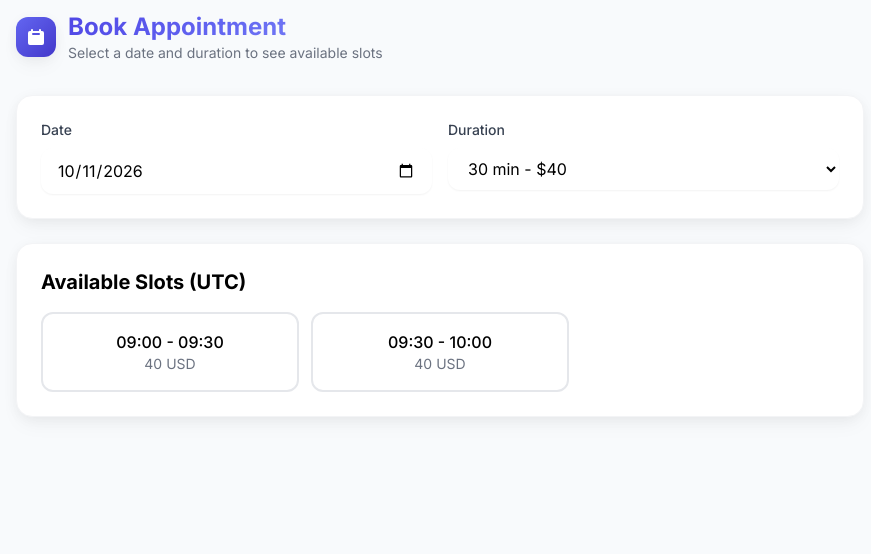
SlotExplorer › should show the picked slot with its date and UTC
This screenshot has width=871, height=554.
Click the button "09:00 - 09:30 40 USD": (170, 352) left=41, top=312, right=299, bottom=392
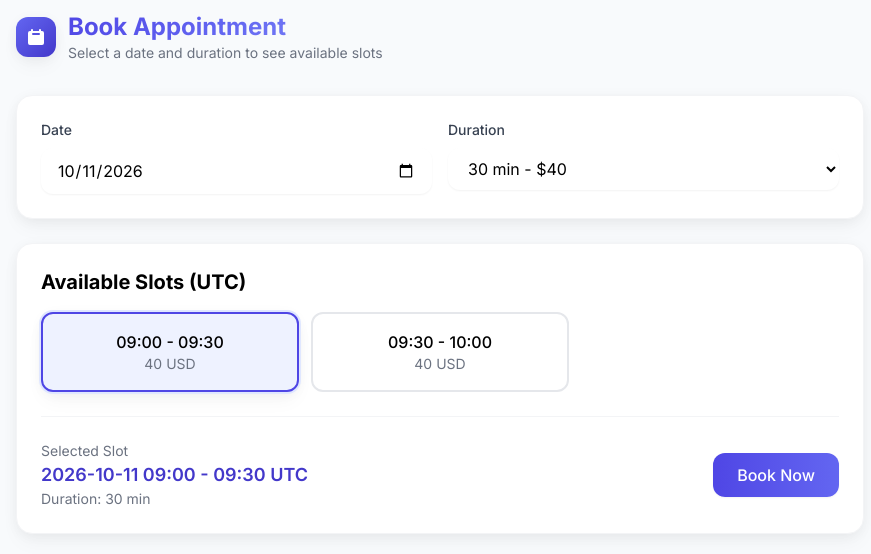
Expected: the text "Duration: 30 min" is shown, left=41, top=490, right=150, bottom=507
